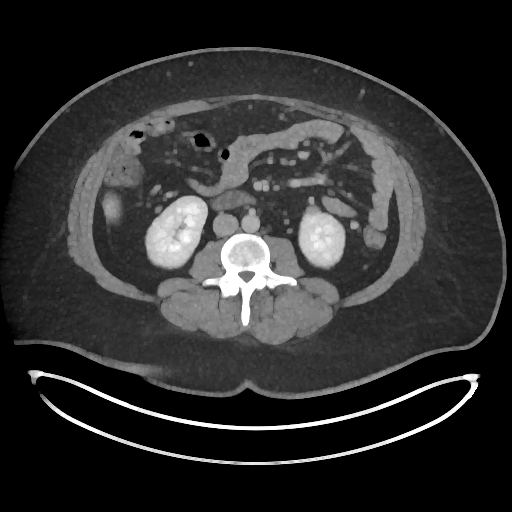Lesion: (303, 202, 321, 217)
